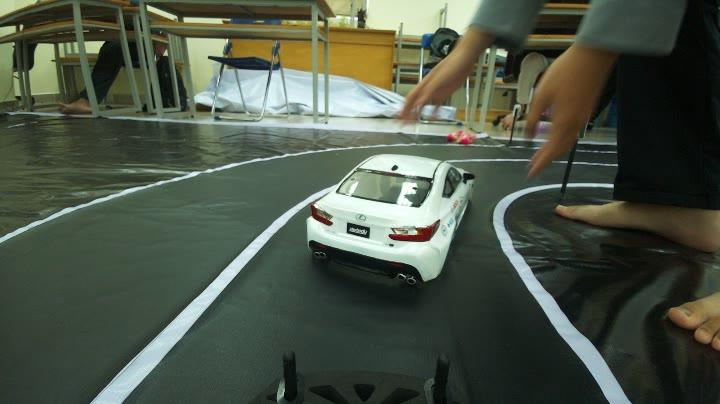car: (296, 130, 480, 305)
